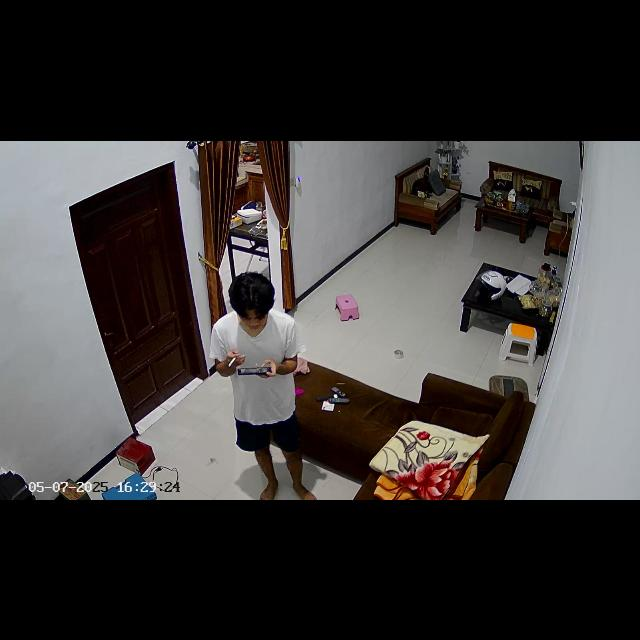rokok: (227, 353, 235, 367)
